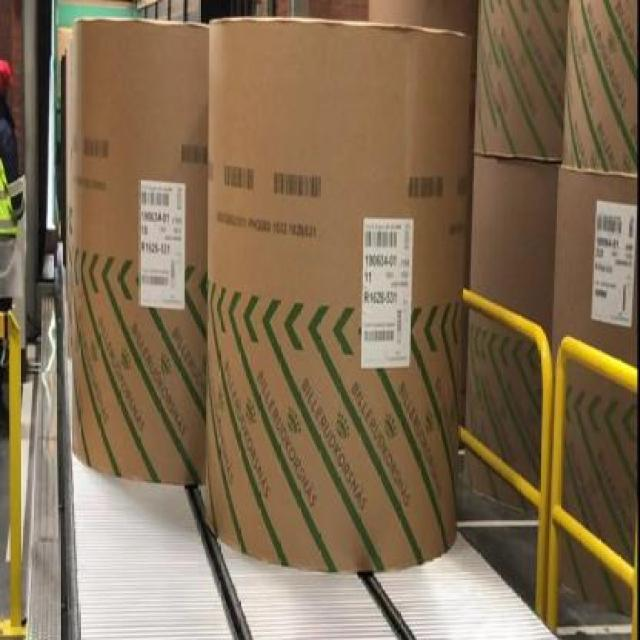box: (206, 19, 472, 582), (65, 29, 207, 485)
